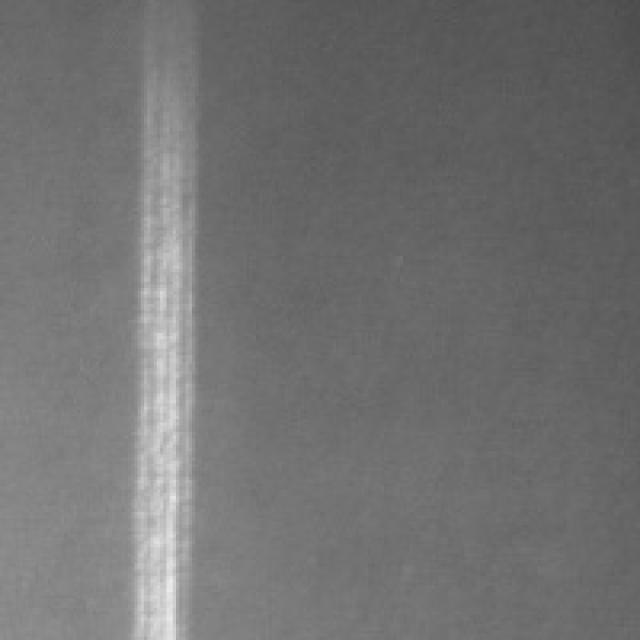scratches: (118, 29, 196, 634)
